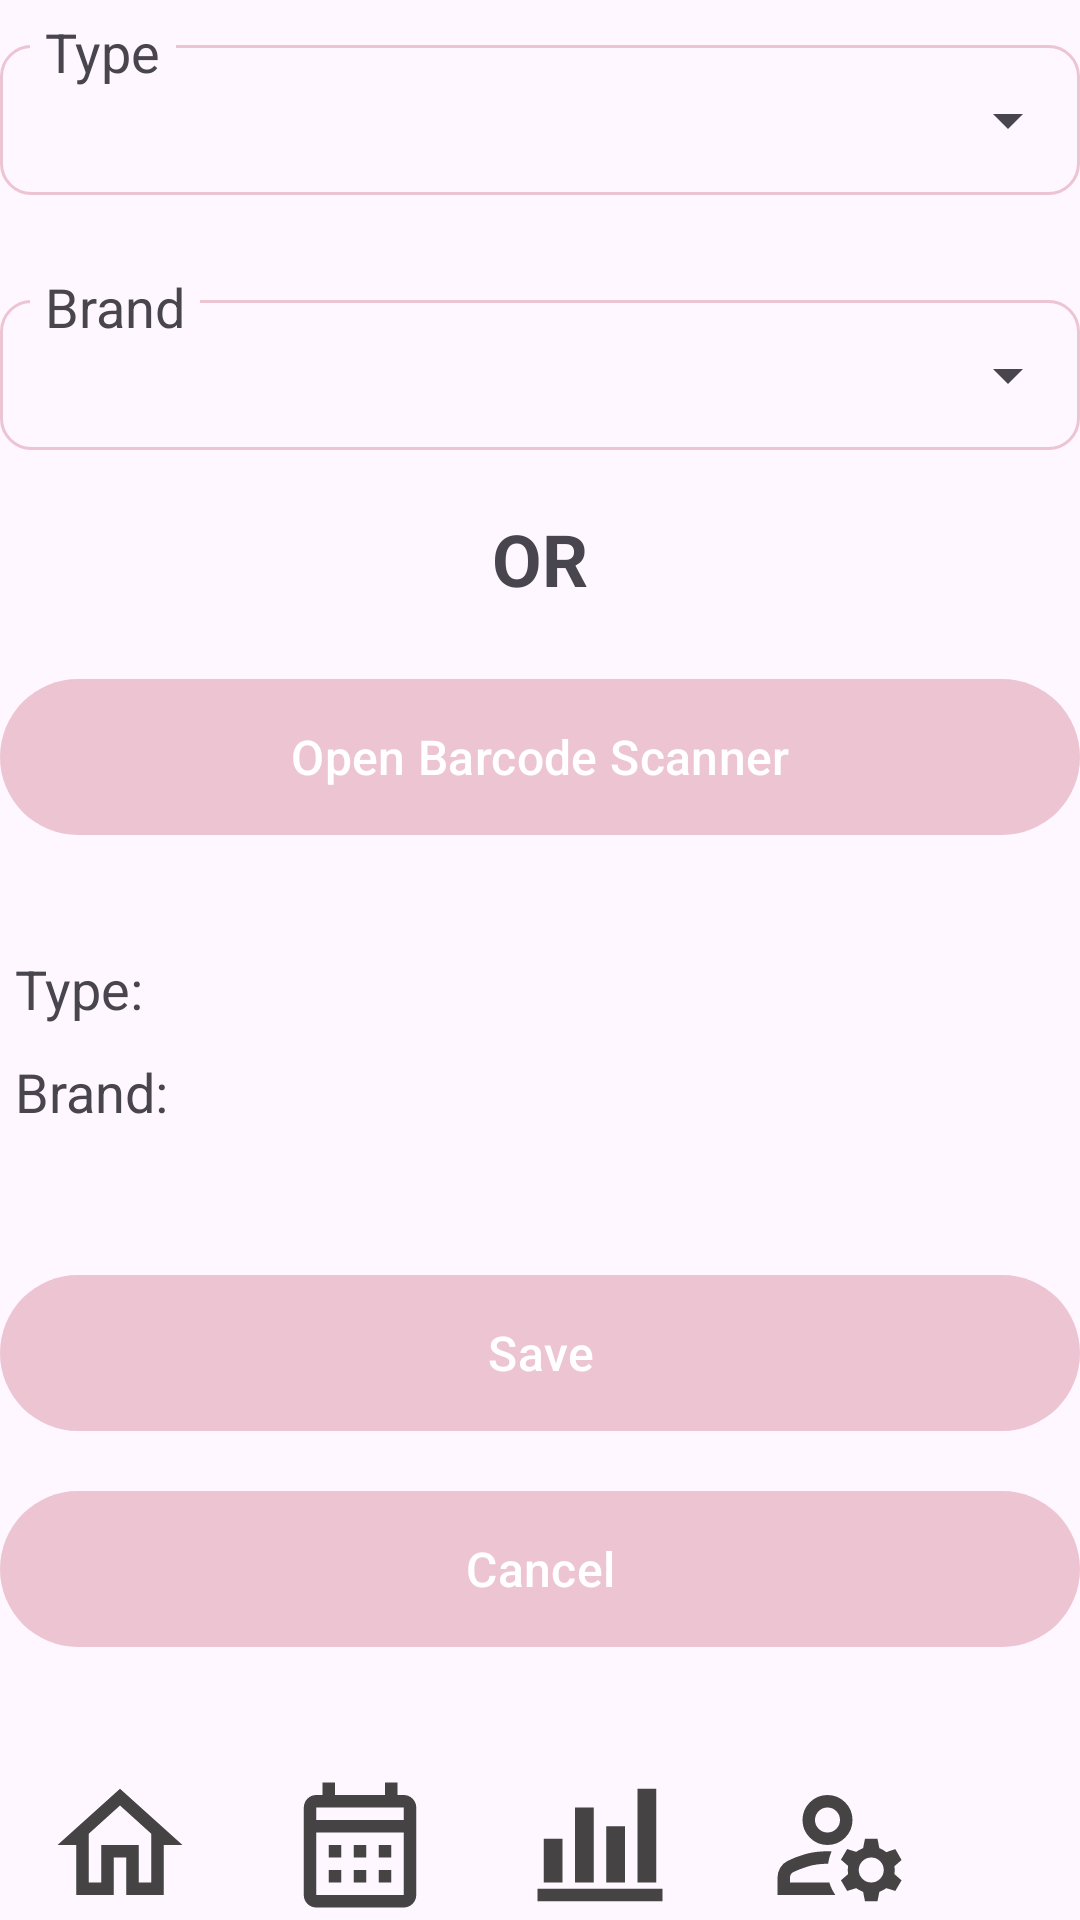

Screen size 1080px x 1920px. Icon name, then its box in pixels as bbox=(x1, y1, x2, y2):
bar chart bars: bbox=(537, 1788, 663, 1902)
calendar month: bbox=(303, 1782, 417, 1908)
home: bbox=(58, 1789, 182, 1895)
manage accounts: bbox=(777, 1795, 902, 1902)
